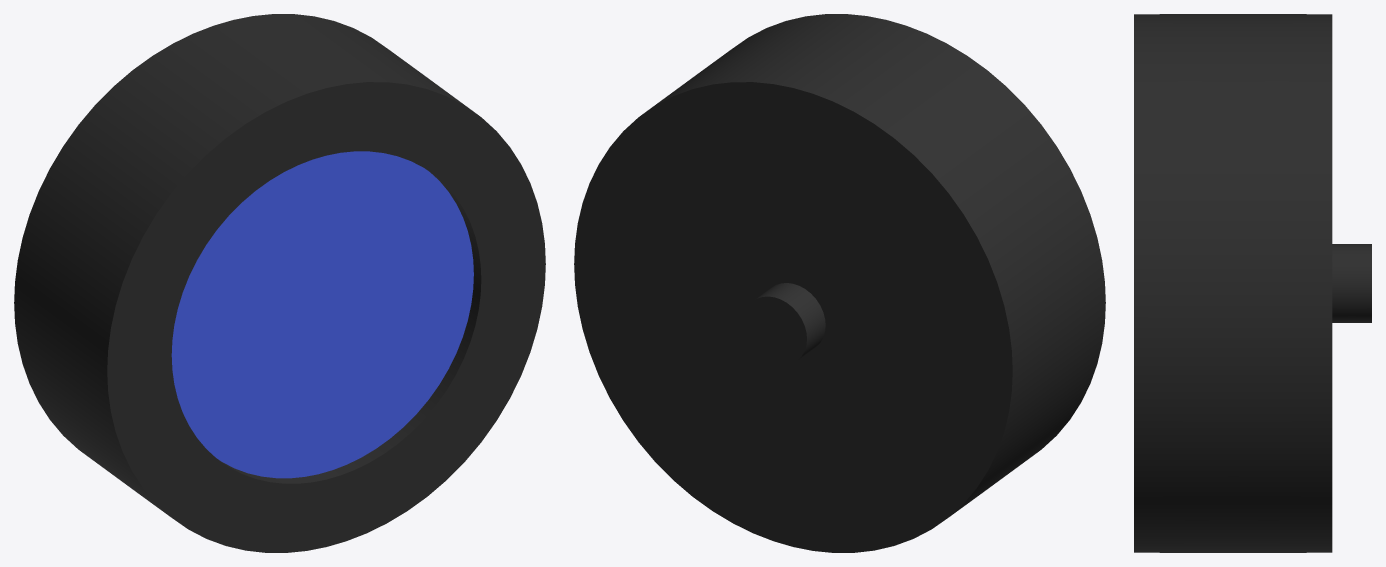
File: wheel_FR.glb
3 views of the same model, side by side, from view 1: azimuth 30°, elevation 25°; view 2: azimuth 150°, elevation 25°; view 3: azimuth 270°, elevation 25° (orthographic). The views are drawn at different scales.
Visible parts, largest first — view 1: Wheel_FR; view 2: Wheel_FR; view 3: Wheel_FR.
Boxes of the visible parts, x1=… form: Wheel_FR: x1=14, y1=14, x2=545, y2=552; Wheel_FR: x1=574, y1=14, x2=1105, y2=552; Wheel_FR: x1=1134, y1=14, x2=1371, y2=552.
Bounding box in the file's own units: 6.78 × 6.78 × 2.99.
